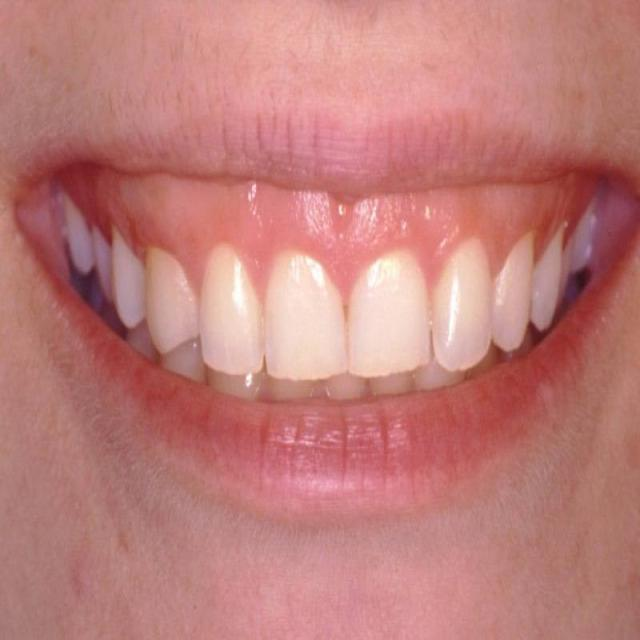tooth: (350, 249, 436, 365), (267, 249, 346, 375), (194, 246, 267, 370), (436, 243, 493, 359), (148, 257, 200, 345), (494, 233, 530, 345), (106, 228, 146, 326), (530, 238, 564, 328), (60, 196, 94, 274), (560, 209, 588, 286), (203, 368, 266, 398), (90, 225, 112, 306), (164, 348, 201, 388), (272, 374, 319, 403), (122, 327, 153, 362), (370, 379, 418, 398), (329, 374, 368, 397), (418, 369, 463, 385)
